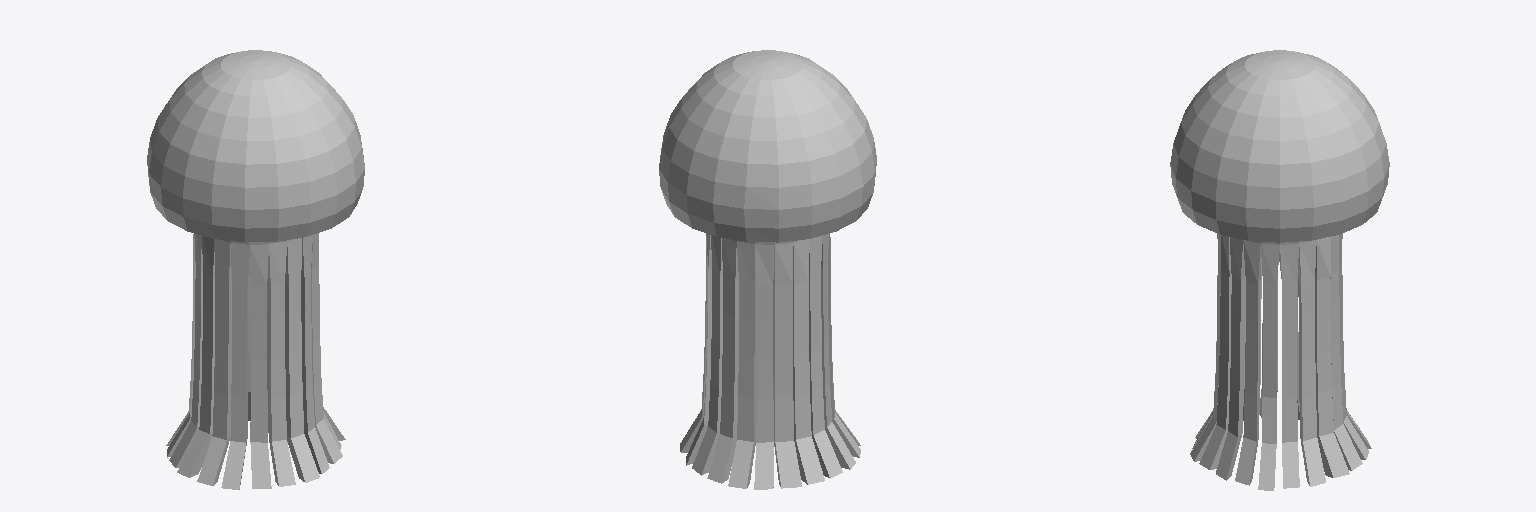
File: JellyAnimPartOne.obj
3 views of the same model, side by side, from view 1: azimuth 30°, elevation 25°; view 2: azimuth 150°, elevation 25°; view 3: azimuth 270°, elevation 25° (orthographic).
Parts seen in each view (by area): view 1: AnimPartOne1:AnimPartOne1 polySurface1; view 2: AnimPartOne1:AnimPartOne1 polySurface1; view 3: AnimPartOne1:AnimPartOne1 polySurface1.
Part boxes in pixels (bbox=[...]): AnimPartOne1:AnimPartOne1 polySurface1: bbox=[147, 50, 364, 489]; AnimPartOne1:AnimPartOne1 polySurface1: bbox=[659, 50, 876, 489]; AnimPartOne1:AnimPartOne1 polySurface1: bbox=[1170, 50, 1389, 490].
Bounding box in the file's own units: 2.61 × 5.12 × 2.61.